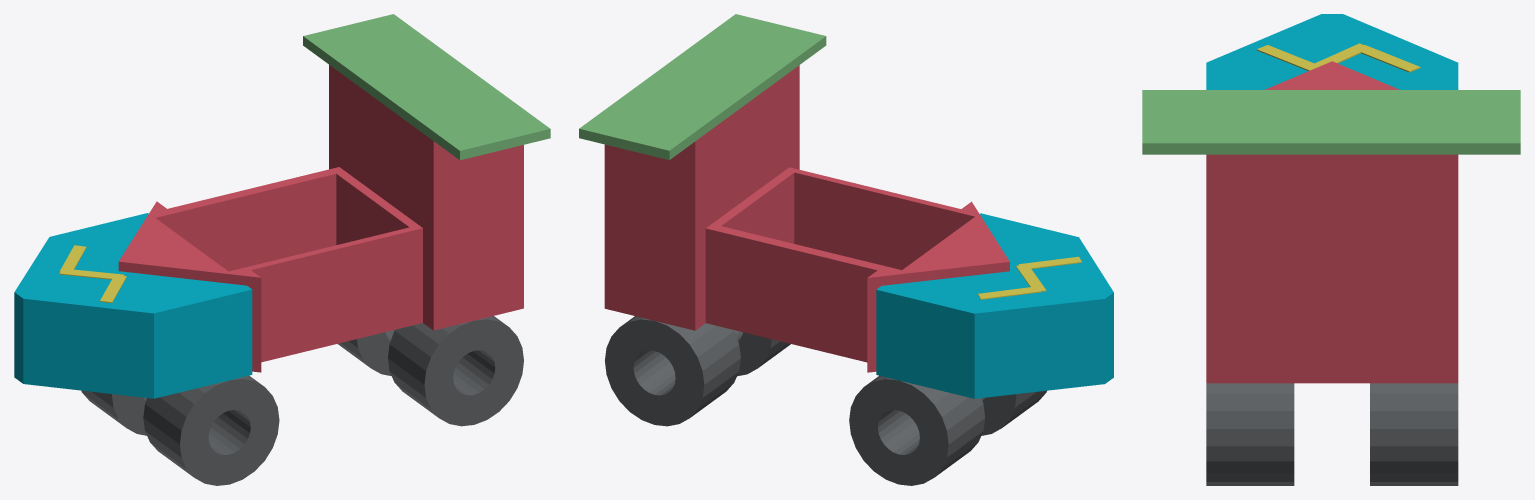
Rendered from POGObtr-1.glb.
The picture shows the model from 3 angles, left to right: view 1: azimuth 30°, elevation 25°; view 2: azimuth 150°, elevation 25°; view 3: azimuth 270°, elevation 25°; orthographic projection. The views are drawn at different scales.
Parts seen in each view (by area): view 1: Mesh_Mesh_head_geo.001_lambert2SG.001; view 2: Mesh_Mesh_head_geo.001_lambert2SG.001; view 3: Mesh_Mesh_head_geo.001_lambert2SG.001.
Boxes of the visible parts, box(x1,y1,x2,y2) form: Mesh_Mesh_head_geo.001_lambert2SG.001: box(14, 14, 550, 485); Mesh_Mesh_head_geo.001_lambert2SG.001: box(579, 14, 1113, 485); Mesh_Mesh_head_geo.001_lambert2SG.001: box(1142, 14, 1520, 485).
Size of the model in its own units: 50 by 32 by 30.
